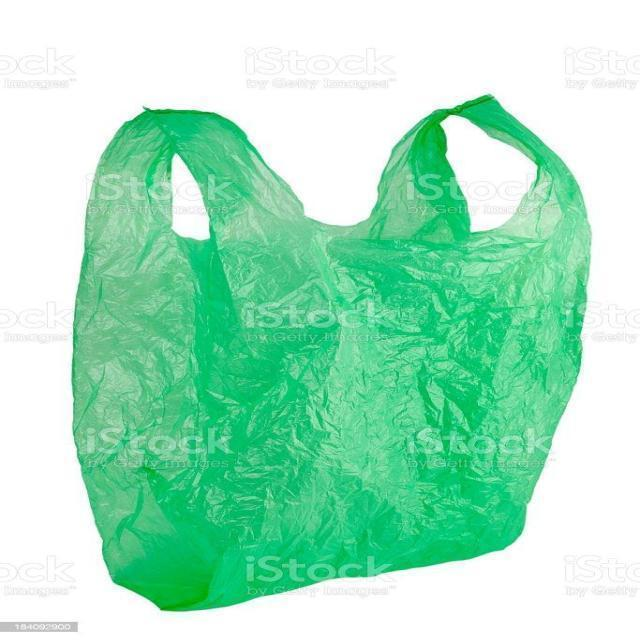Plastic_Bag: (72, 93, 590, 618)
